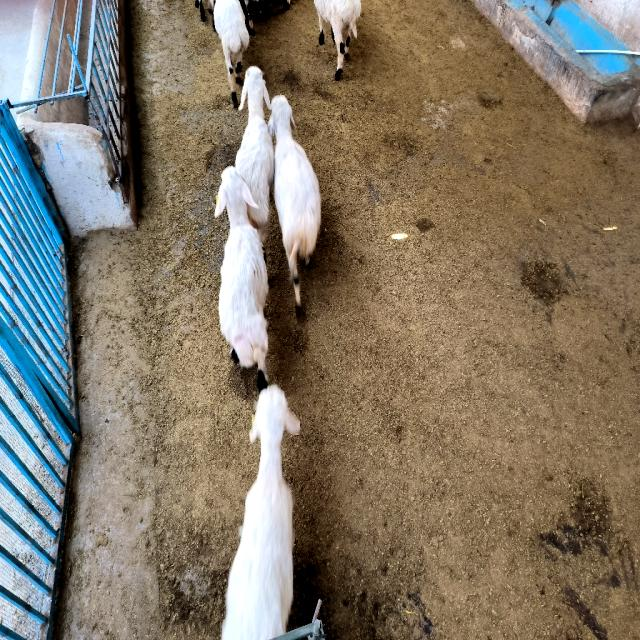sheep: (222, 385, 299, 638), (215, 167, 269, 391), (269, 95, 321, 311), (235, 67, 275, 252), (214, 0, 249, 108), (314, 0, 361, 79)
